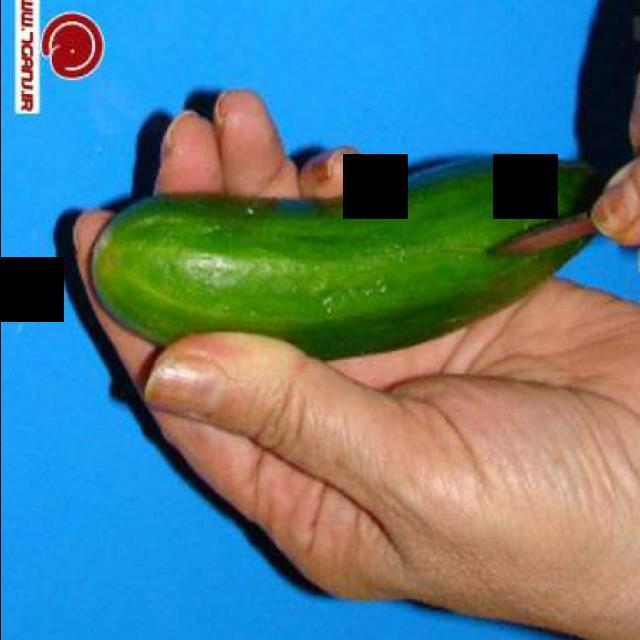cucumber: (82, 153, 596, 363)
